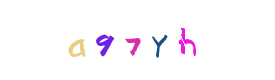7: (97, 0, 177, 80)
9: (64, 0, 144, 80)
A: (43, 0, 123, 80)
H: (124, 0, 204, 80)
Y: (119, 0, 199, 80)
